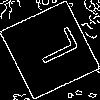L: (24, 25, 80, 71)
